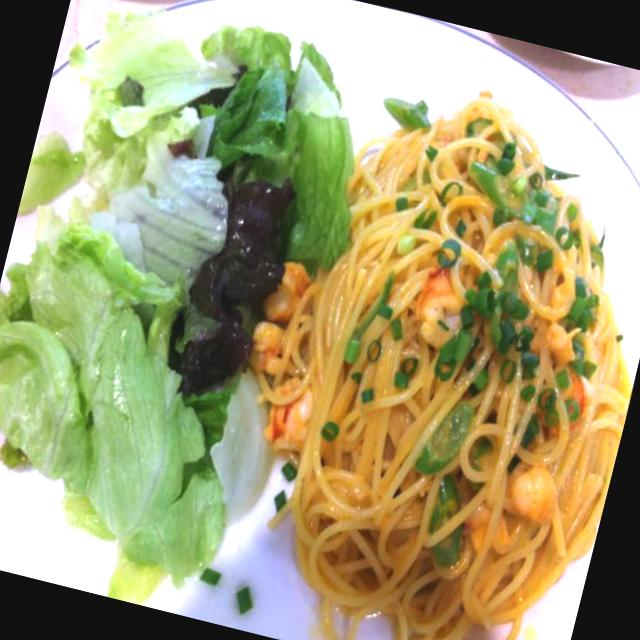Pasta: (226, 59, 640, 640)
